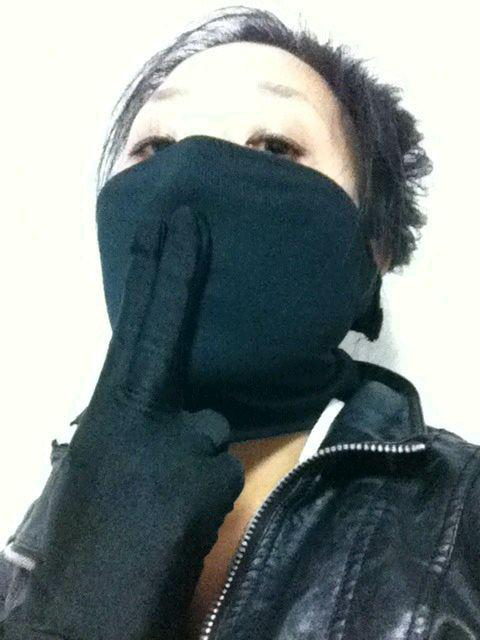OK: (107, 99, 360, 364)
